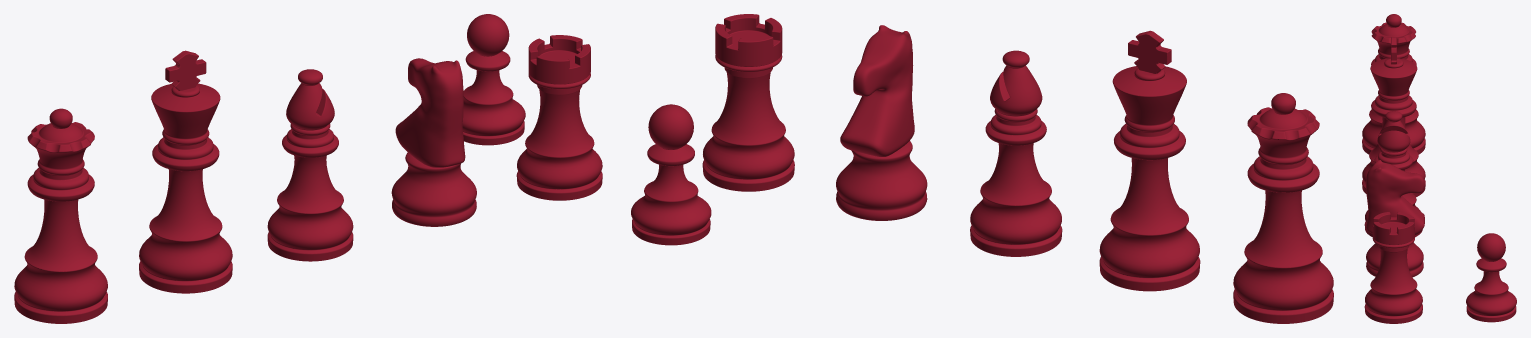
Rendered from Red_Chess_Pieces.glb.
The picture shows the model from 3 angles, left to right: view 1: azimuth 30°, elevation 25°; view 2: azimuth 150°, elevation 25°; view 3: azimuth 270°, elevation 25°; orthographic projection. The views are drawn at different scales.
Parts seen in each view (by area): view 1: Red_King, Red_Queen, Red_Knight, Red_Bishop, Red_Rook, Red_Pawn; view 2: Red_King, Red_Queen, Red_Knight, Red_Bishop, Red_Rook, Red_Pawn; view 3: Red_Rook, Red_Knight, Red_King, Red_Pawn, Red_Queen, Red_Bishop.
Boxes of the visible parts, x1,y1,x2,y2 form: Red_King: (139, 50, 232, 293); Red_Queen: (14, 108, 107, 323); Red_Knight: (391, 58, 476, 226); Red_Bishop: (267, 69, 353, 261); Red_Rook: (516, 35, 602, 200); Red_Pawn: (462, 14, 525, 145); Red_King: (1099, 30, 1200, 291); Red_Queen: (1233, 93, 1333, 323); Red_Knight: (836, 25, 927, 220); Red_Bishop: (970, 50, 1062, 256); Red_Rook: (702, 14, 794, 191); Red_Pawn: (631, 104, 711, 245); Red_Rook: (1364, 212, 1422, 323); Red_Knight: (1366, 160, 1424, 277); Red_King: (1362, 37, 1425, 196); Red_Pawn: (1466, 233, 1516, 322); Red_Queen: (1362, 14, 1425, 154); Red_Bishop: (1364, 111, 1422, 237).
Bounding box in the file's own units: 0.228 × 0.0839 × 0.0782.
